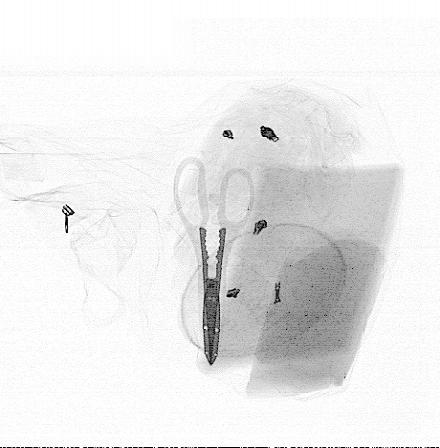Scissors: (173, 155, 256, 370)
